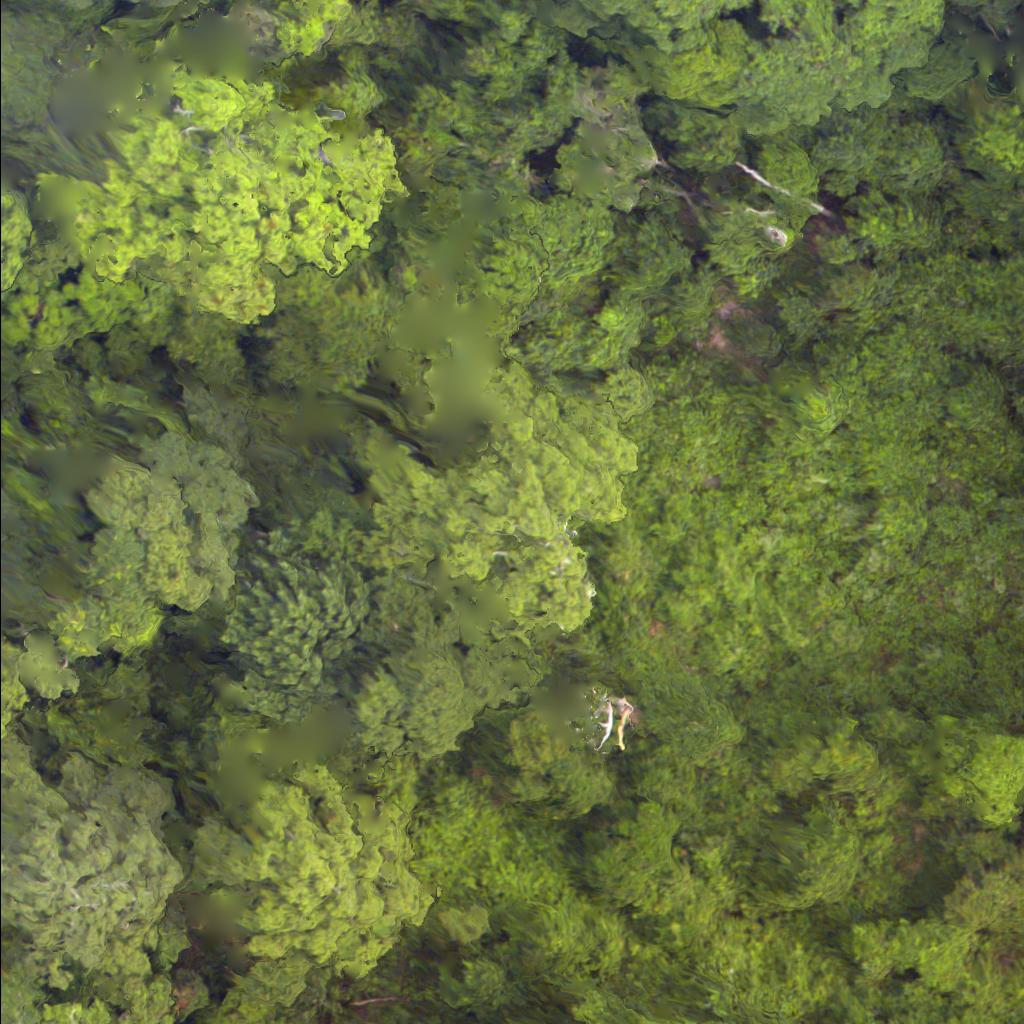crown: (63, 67, 424, 344), (187, 744, 447, 979), (588, 0, 925, 133), (220, 528, 367, 719), (918, 741, 1023, 836), (0, 972, 98, 1023)
